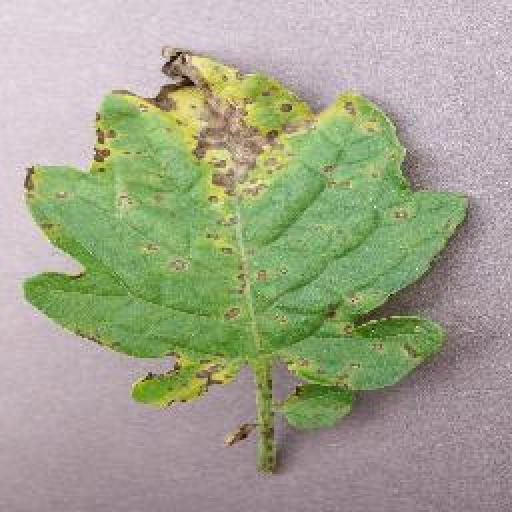disease_tomato: (24, 48, 474, 406)
